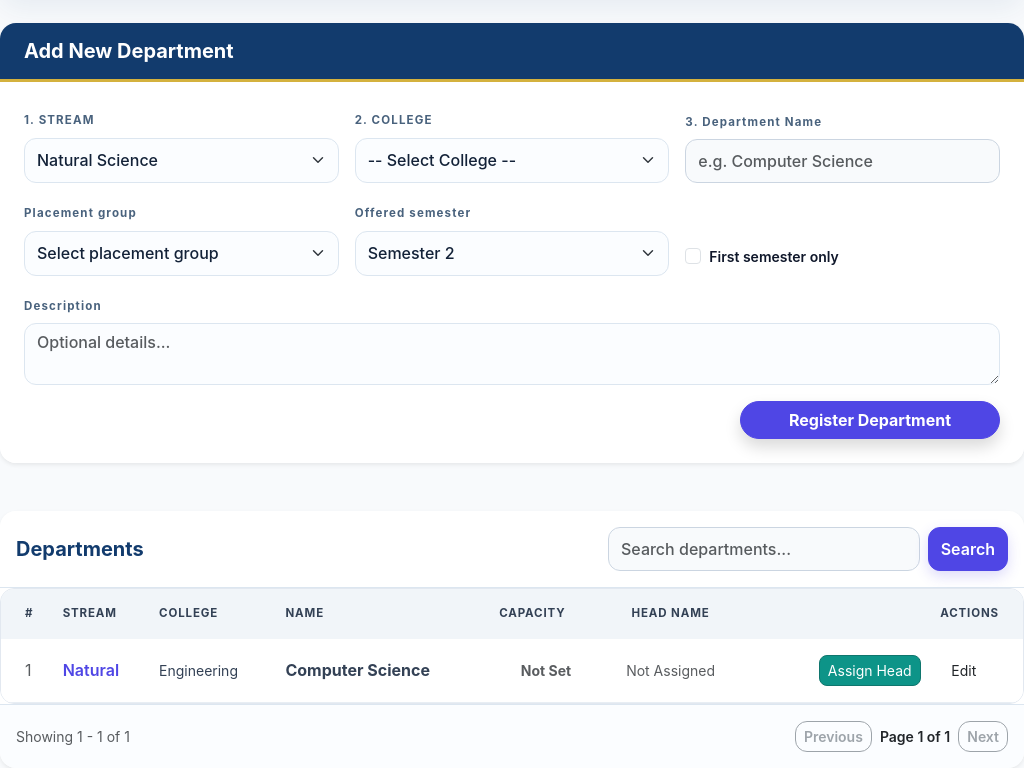
Test: ManageDepartments › opens an assignment dialog for the selected department and saves its head
(page scrolled)
Click the button with aria-label "Assign Head Computer Science": (870, 670) top-left (819, 655), bottom-right (921, 686)
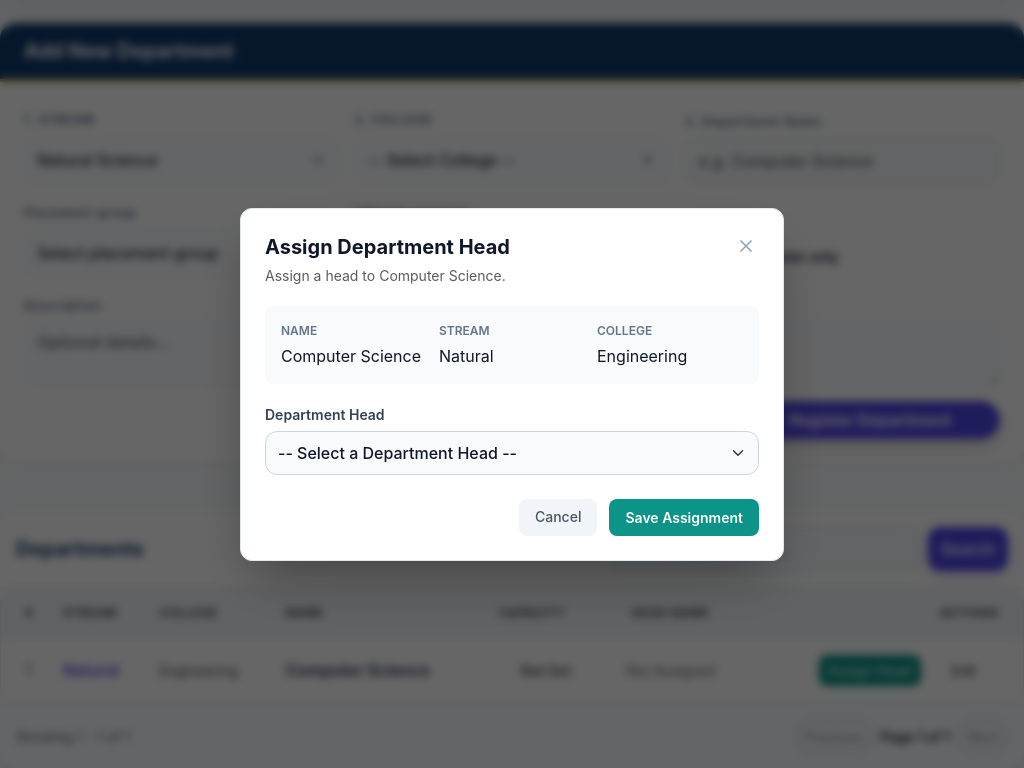
Expected: the dialog is shown, top-left (240, 208), bottom-right (784, 560)
Expected: the text "Computer Science" is shown, top-left (281, 344), bottom-right (427, 368)
Expected: the text "Natural" is shown, top-left (439, 346), bottom-right (494, 366)
Select "Amina Head" in the dropdown labelled "Department Head": (512, 452) top-left (265, 430), bottom-right (759, 474)
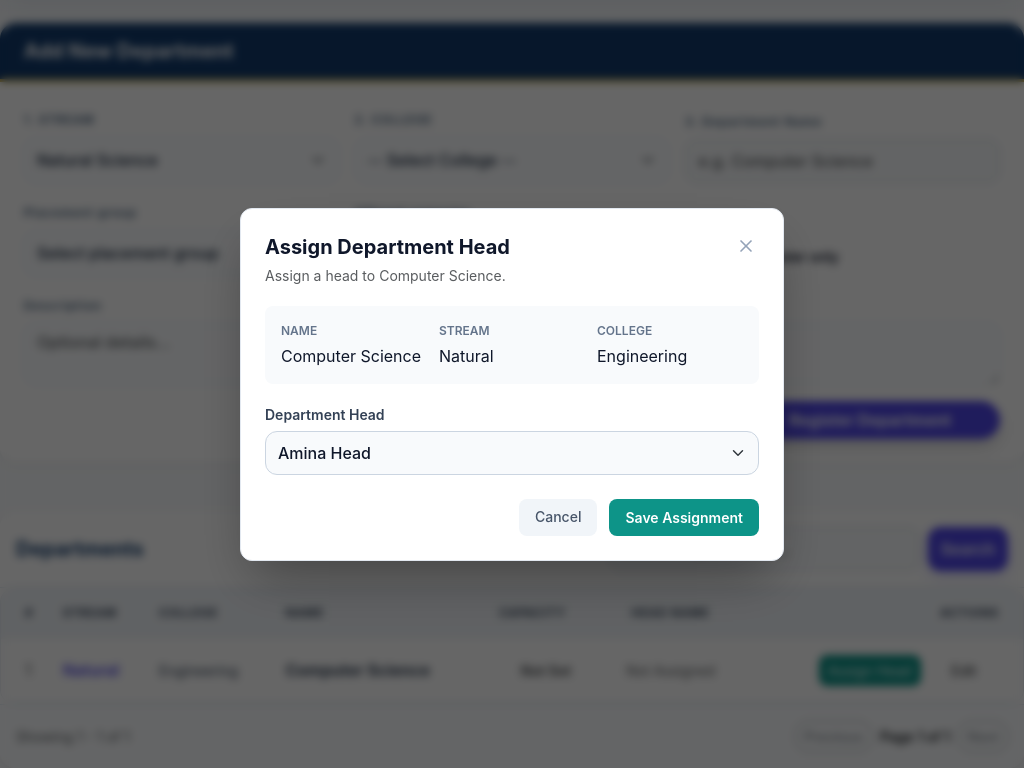
Click the button "Save Assignment": (684, 517) top-left (610, 498), bottom-right (759, 536)
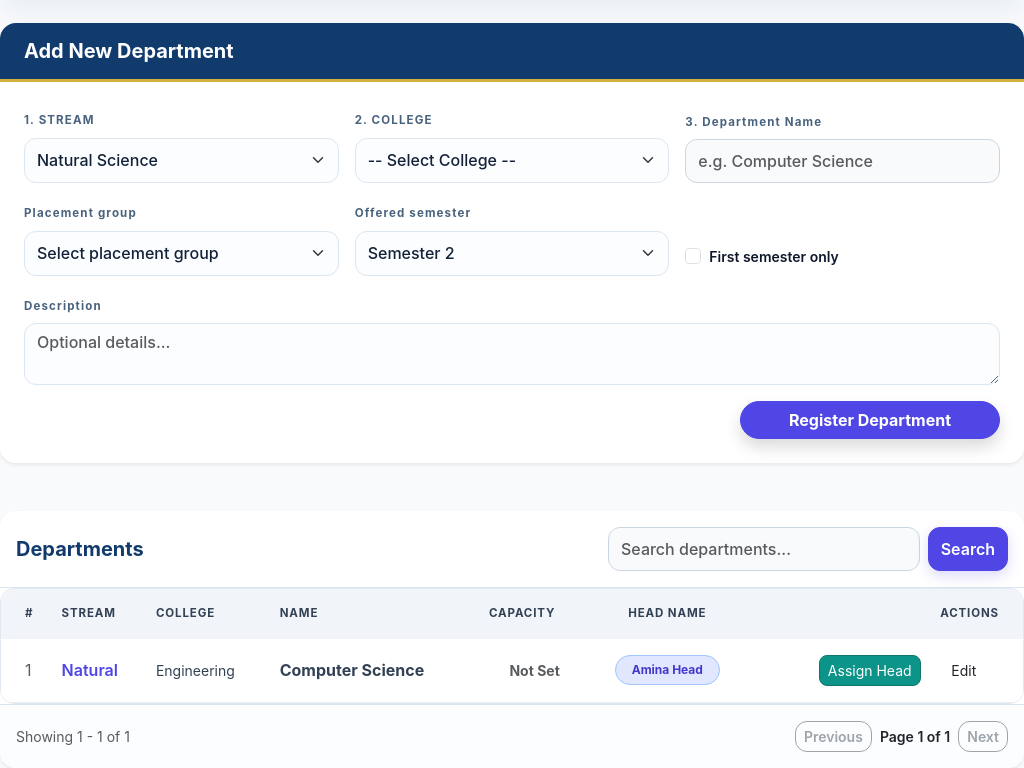
Expected: the text "Amina Head" is shown, top-left (615, 655), bottom-right (720, 685)
Expected: the dialog is gone
